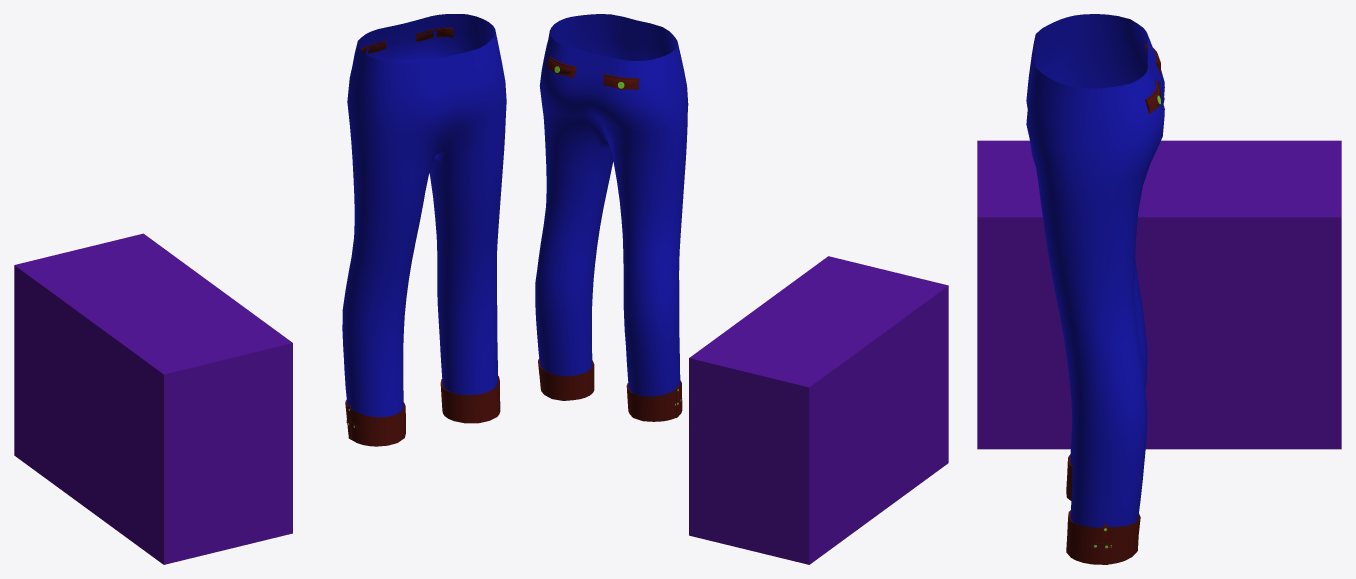
Rendered from Trousers_Assemble_Test.fbx.
3 renders of one model, left to right at view 1: azimuth 30°, elevation 25°; view 2: azimuth 150°, elevation 25°; view 3: azimuth 270°, elevation 25°, orthographic. The views are drawn at different scales.
Parts seen in each view (by area): view 1: Box001; view 2: Box001; view 3: Box001.
Boxes of the visible parts, x1,y1,x2,y2 form: Box001: [14, 14, 506, 564]; Box001: [535, 14, 948, 564]; Box001: [977, 14, 1341, 564].
Size of the model in its own units: 42.31 by 43.72 by 28.46.
